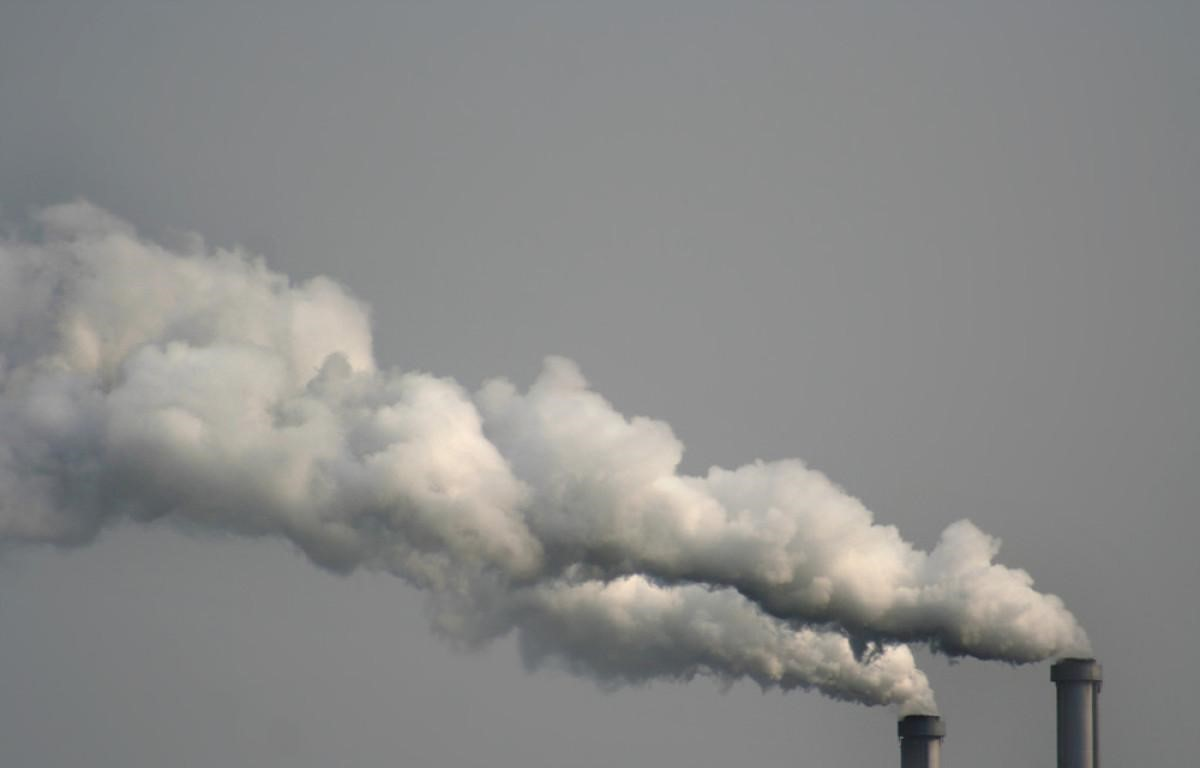工厂排烟: (0, 191, 1099, 667), (0, 191, 942, 716)
